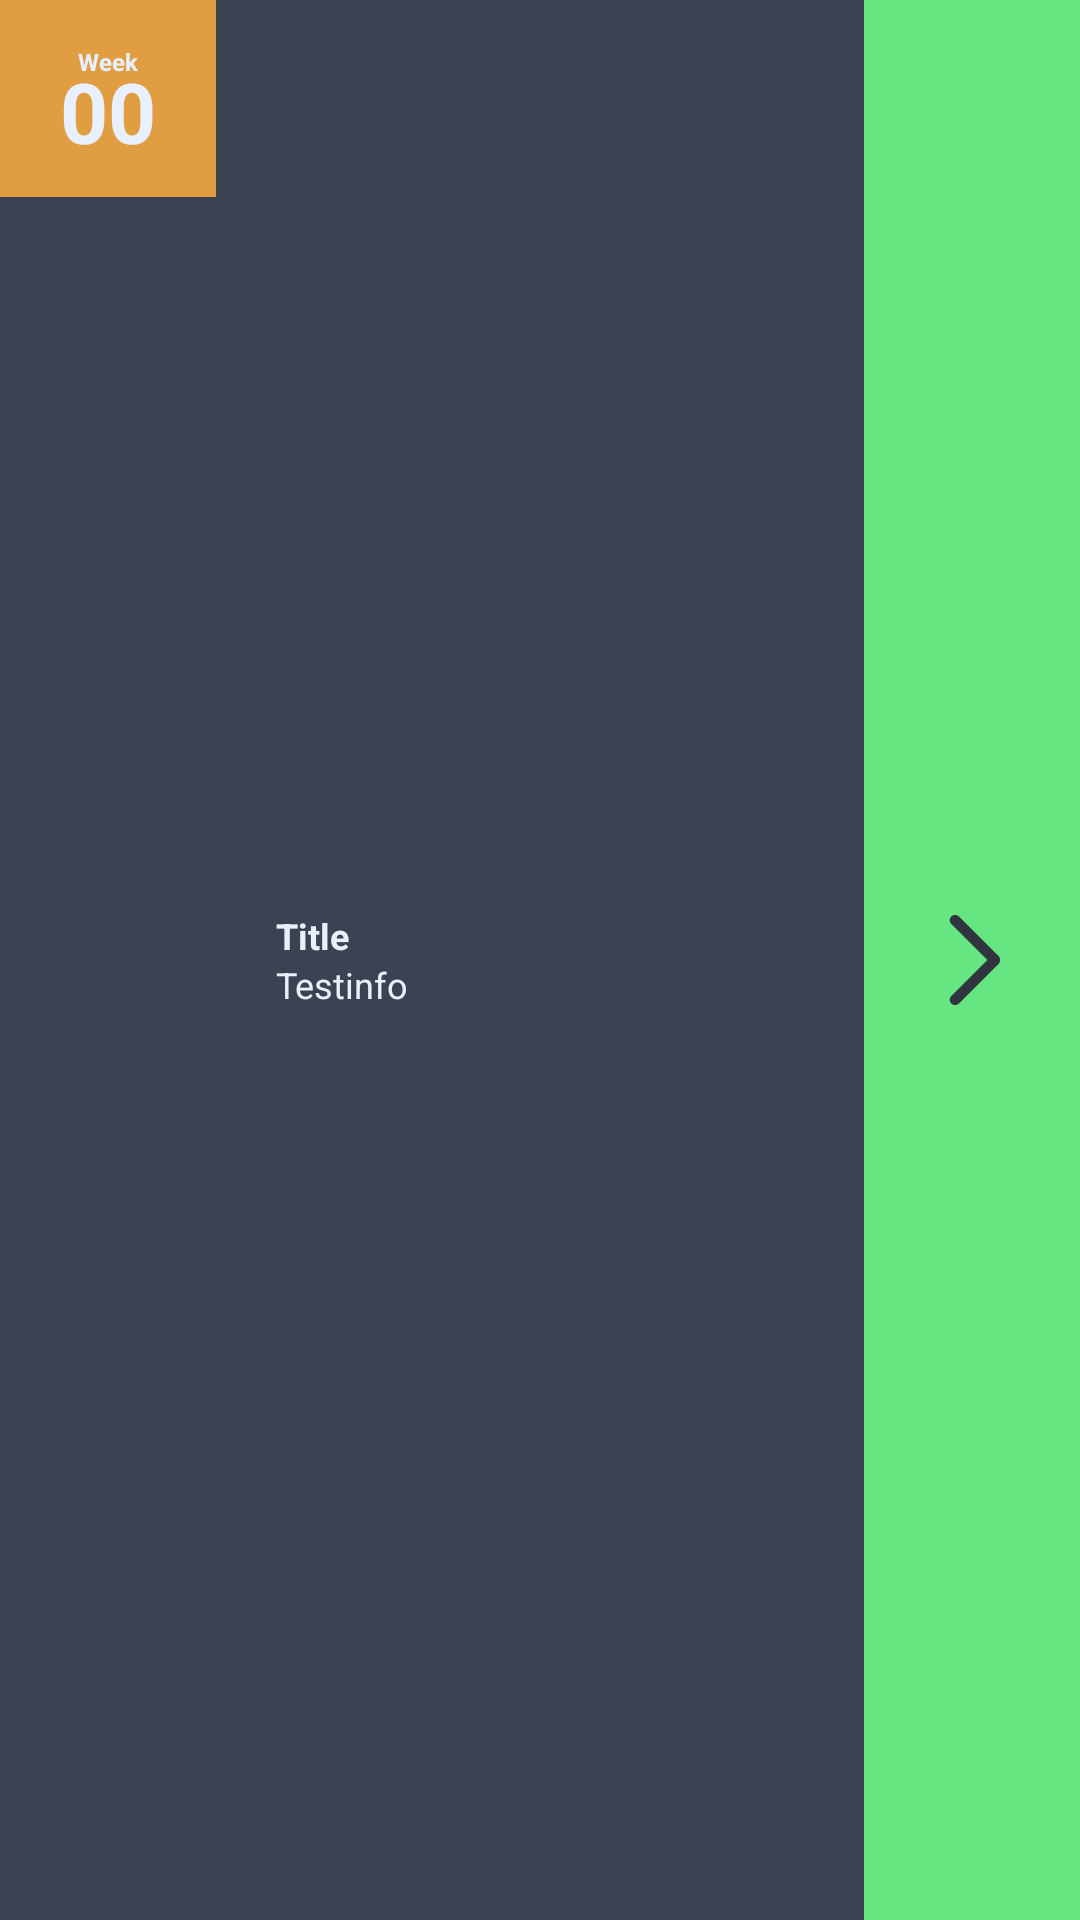

Screen size 1080 x 1920. Icon name, then its center in pixels as [x,y]:
arrowright: [974,960]
